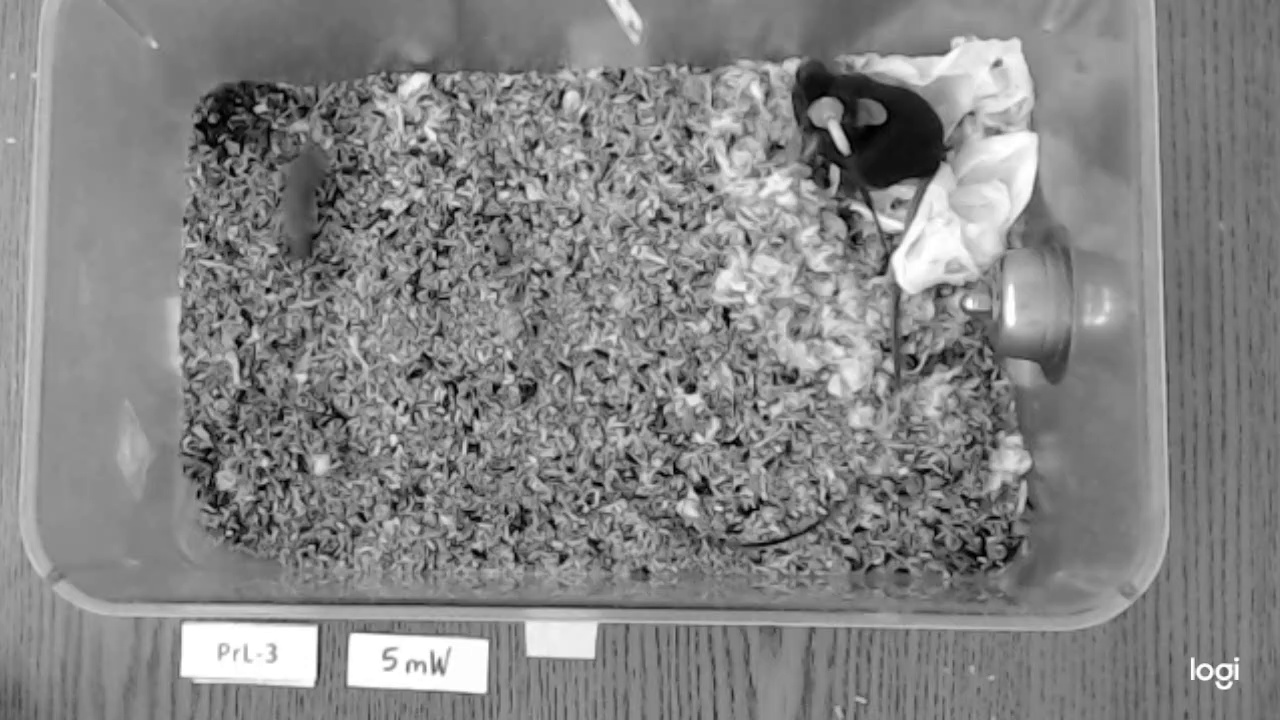child-mice: (274, 146, 330, 259)
